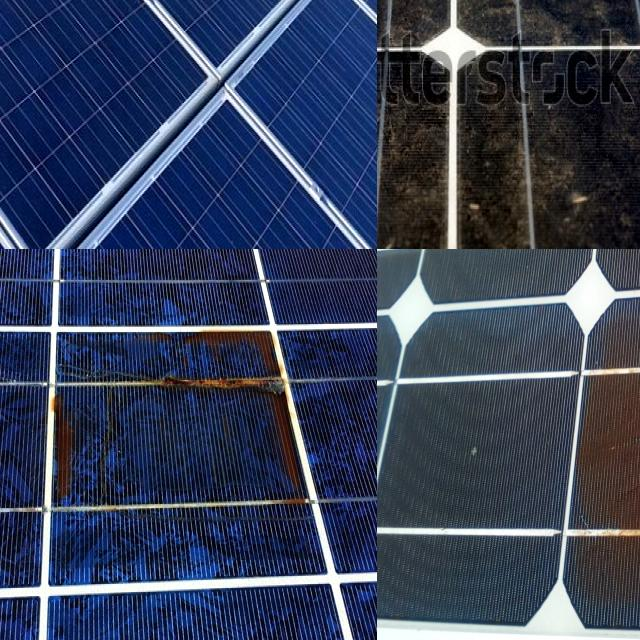crack: (0, 0, 355, 186), (0, 0, 231, 249), (90, 0, 377, 126)
dust: (464, 56, 579, 249), (470, 0, 628, 96), (392, 55, 437, 249), (377, 51, 421, 249), (377, 0, 451, 102), (606, 55, 640, 249), (462, 0, 640, 37), (377, 56, 411, 249), (377, 0, 442, 98), (377, 0, 466, 32)
shadow: (49, 322, 312, 538), (576, 301, 640, 594)
